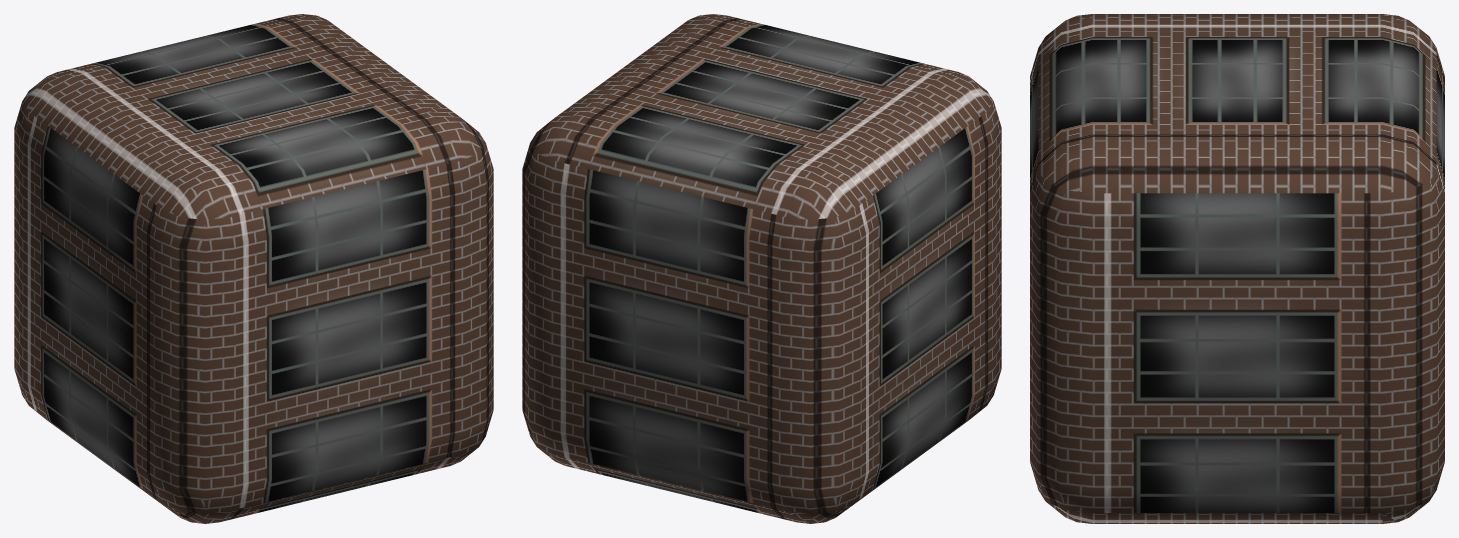
The model's file is Block-Round.FBX.
3 renders of one model, left to right at view 1: azimuth 30°, elevation 25°; view 2: azimuth 150°, elevation 25°; view 3: azimuth 270°, elevation 25°, orthographic. The views are drawn at different scales.
Parts seen in each view (by area): view 1: ChamferBox001; view 2: ChamferBox001; view 3: ChamferBox001.
Part boxes in pixels (bbox=[...]): ChamferBox001: bbox=[14, 14, 493, 523]; ChamferBox001: bbox=[522, 14, 1001, 523]; ChamferBox001: bbox=[1030, 14, 1444, 523].
Size of the model in its own units: 10 by 10 by 10.
